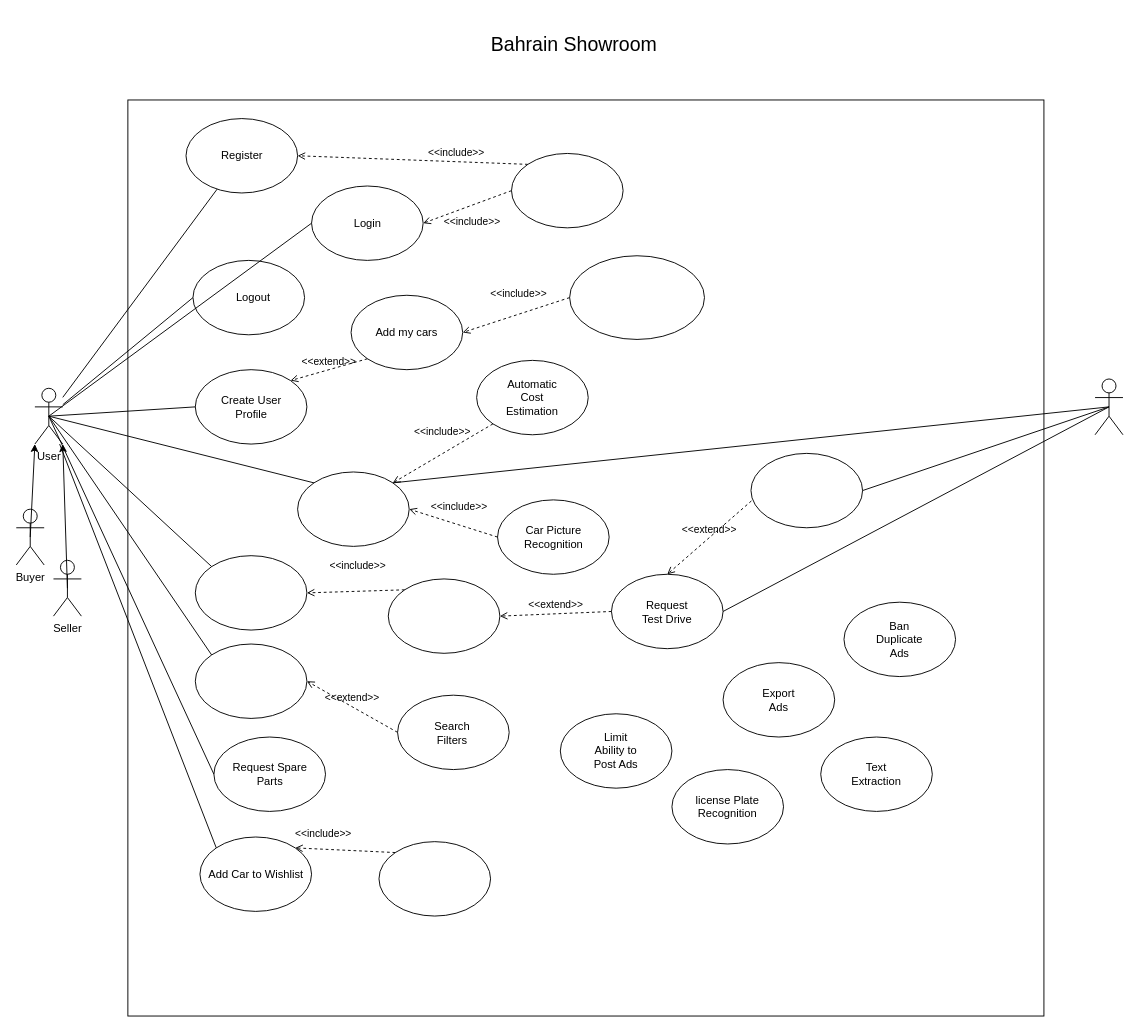
The diagram is 1144 pixels wide and 1032 high, and some of its shapes have lost their labels. The shapes that lost their labels are listed below. From the top down, each one's box as (x1, y1, x2, y2) in pixels, then its label:
(511, 153, 623, 228): OTP Authentication
(569, 255, 704, 339): Automatic Insurance & Maintenance Notifications
(1094, 378, 1123, 435): Agency
(297, 471, 409, 546): Sell Car
(750, 452, 863, 528): Payment Processing & Plans
(194, 555, 307, 630): Buy Car
(387, 578, 500, 653): View Car Details
(194, 643, 307, 718): Search for Cars
(378, 841, 491, 916): Remove Car from Wishlist
